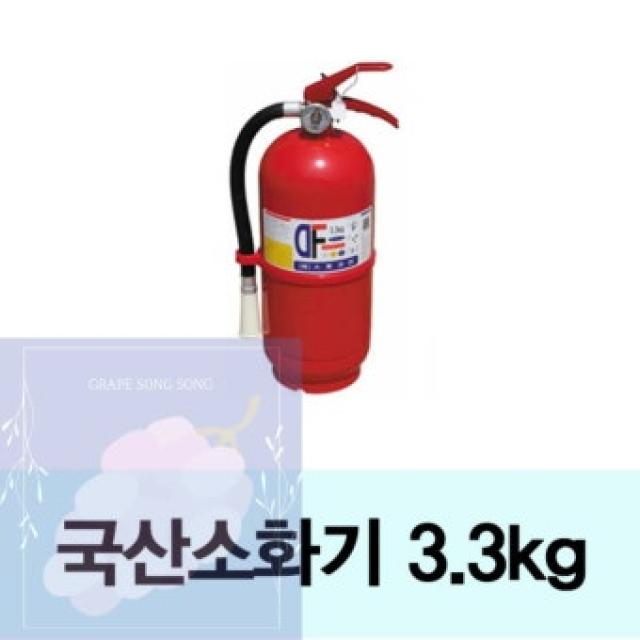pressure gauge: (302, 104, 333, 135)
